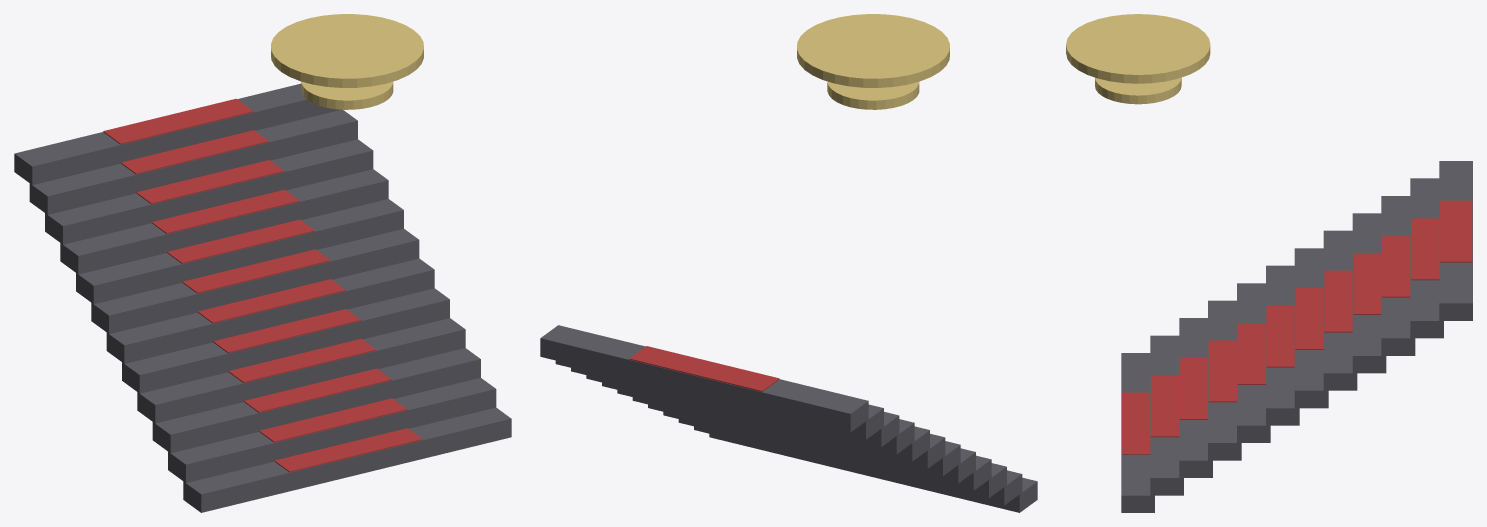
File: lobby_staircase_chandelier.fbx
The picture shows the model from 3 angles, left to right: view 1: azimuth 30°, elevation 25°; view 2: azimuth 150°, elevation 25°; view 3: azimuth 270°, elevation 25°; orthographic projection. The views are drawn at different scales.
Visible parts, largest first — view 1: Chandelier_Tier1, Step_1, Step_10, Step_4, Step_2, Step_7, Step_9, Step_3, Step_11, Step_6, Step_5, Step_8 (+14 smaller); view 2: Step_12, Chandelier_Tier1, Runner_12, Step_9, Step_10, Step_1, Step_3, Step_6, Step_11, Step_7, Step_2, Step_4 (+3 smaller); view 3: Chandelier_Tier1, Step_12, Step_8, Step_7, Step_9, Step_11, Step_2, Step_10, Step_1, Step_4, Step_6, Step_3 (+14 smaller).
Boxes of the visible parts, x1,y1,x2,y2 form: Chandelier_Tier1: (271, 14, 423, 87); Step_1: (183, 407, 511, 512); Step_10: (45, 139, 373, 244); Step_4: (137, 318, 465, 423); Step_2: (168, 377, 496, 482); Step_7: (91, 228, 419, 333); Step_9: (60, 169, 388, 274); Step_3: (152, 348, 480, 453); Step_11: (29, 109, 357, 214); Step_6: (106, 258, 434, 363); Step_5: (122, 288, 449, 393); Step_8: (76, 199, 403, 304); Step_12: (540, 325, 868, 432); Chandelier_Tier1: (797, 14, 949, 87); Runner_12: (629, 346, 779, 391); Step_9: (586, 375, 914, 454); Step_10: (571, 368, 899, 446); Step_1: (709, 433, 1037, 512); Step_3: (678, 419, 1006, 498); Step_6: (632, 397, 960, 476); Step_11: (555, 360, 883, 439); Step_7: (617, 390, 945, 468); Step_2: (694, 426, 1022, 505); Step_4: (663, 412, 991, 490); Chandelier_Tier1: (1066, 14, 1210, 83); Step_12: (1439, 161, 1472, 320); Step_8: (1323, 230, 1357, 390); Step_7: (1294, 248, 1328, 408); Step_9: (1352, 213, 1386, 373); Step_11: (1410, 178, 1443, 338); Step_2: (1150, 335, 1183, 495); Step_10: (1381, 196, 1415, 355); Step_1: (1121, 353, 1154, 512); Step_4: (1208, 300, 1241, 460); Step_6: (1266, 265, 1299, 425); Step_3: (1179, 318, 1212, 477).
Size of the model in its own units: 14 by 18.2 by 16.9.
